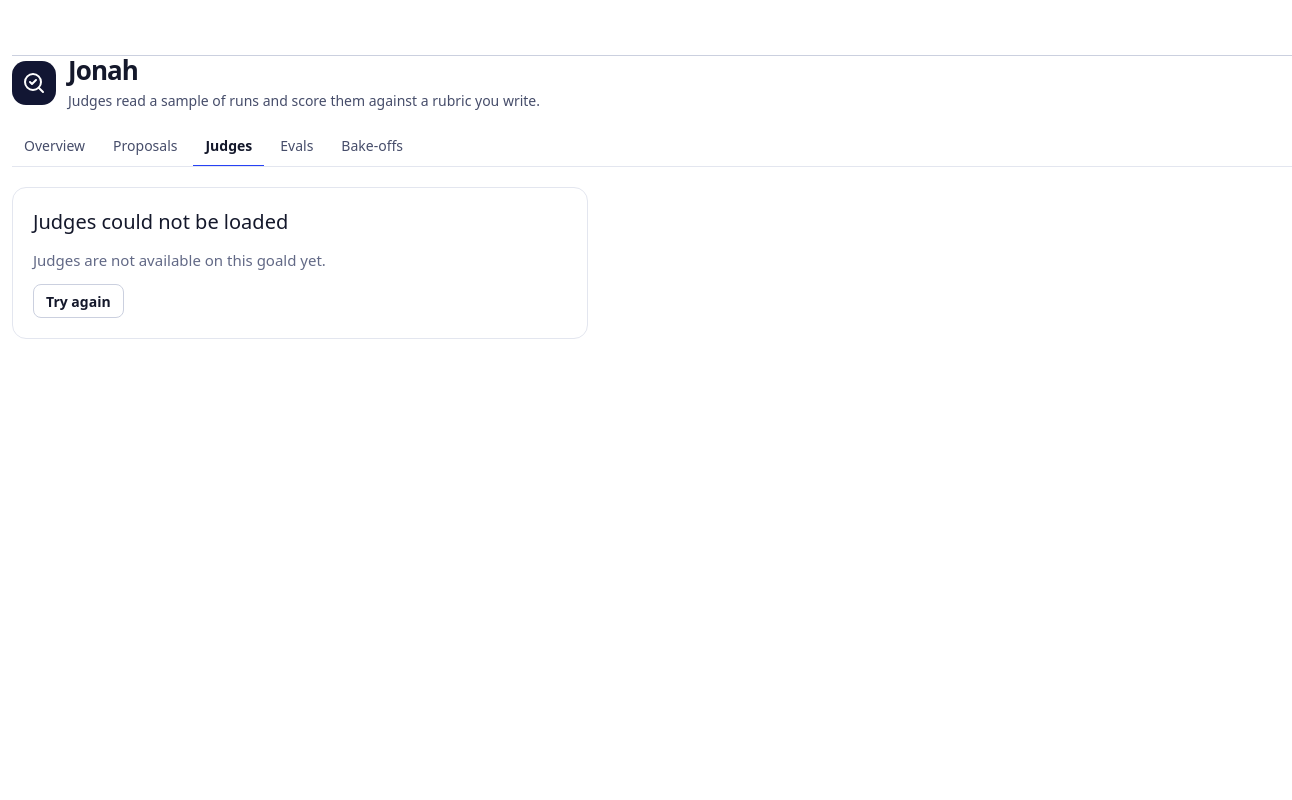
Test: the Judges page, its four states › is an error when the judges cannot be read, and Try again reads them once more
Expected: the heading "Judges could not be loaded" is shown, [33, 208, 288, 236]
Expected: the text "Judges are not available on this goald yet." is shown, [33, 248, 326, 272]
Click the button "Try again" at (78, 301), box [33, 284, 124, 318]
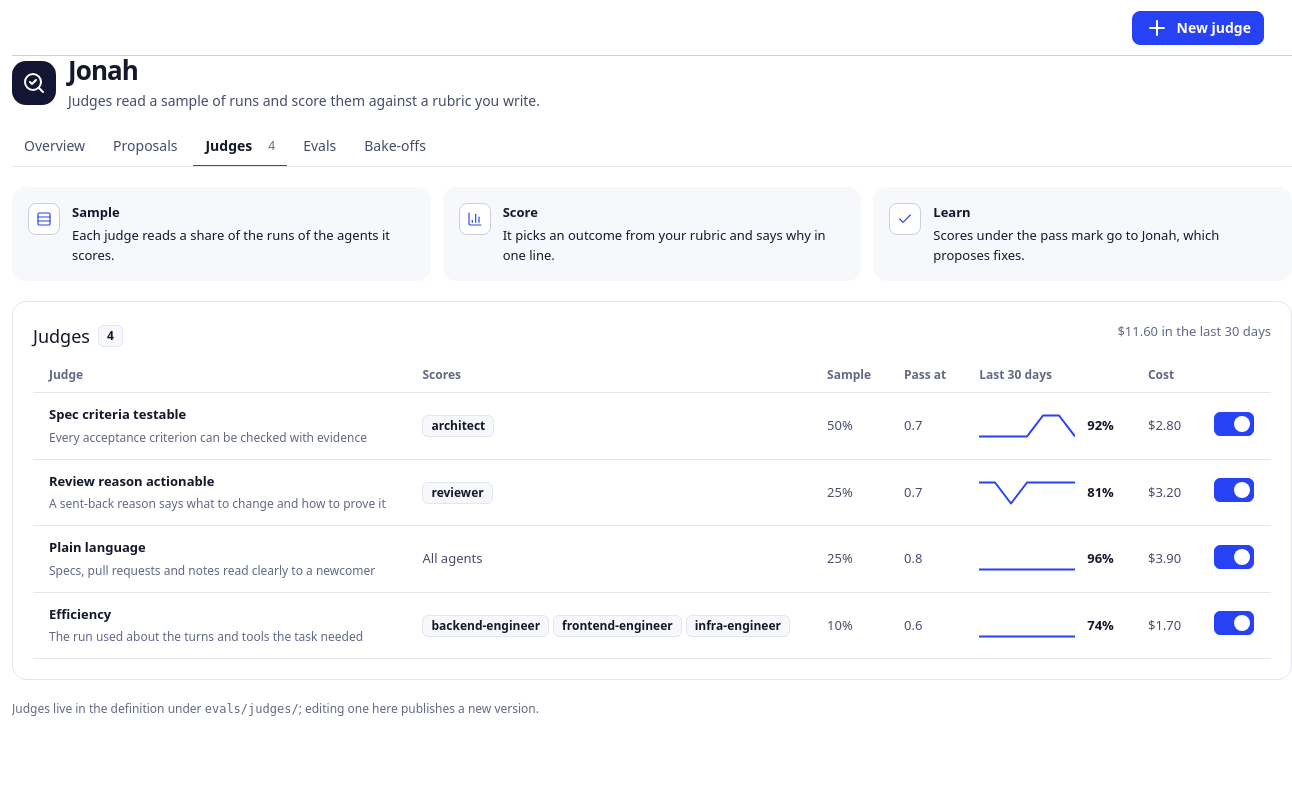
Expected: the table is shown, [33, 366, 1271, 659]
